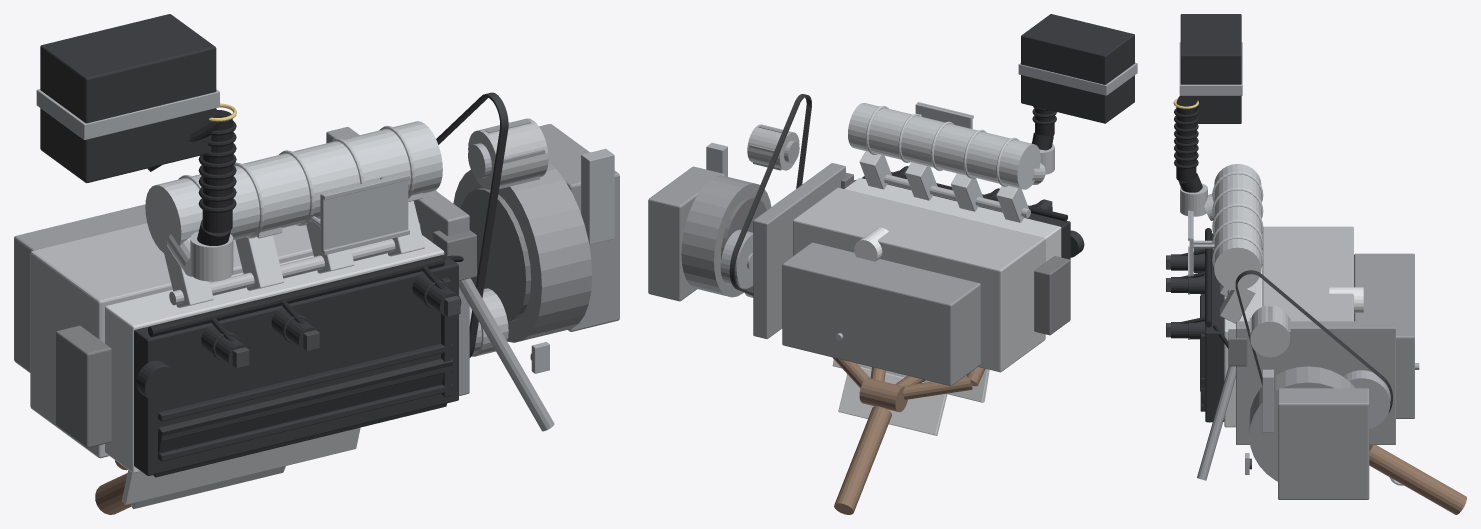
The model's file is engine_assembly.glb.
3 renders of one model, left to right at view 1: azimuth 30°, elevation 25°; view 2: azimuth 150°, elevation 25°; view 3: azimuth 270°, elevation 25°, orthographic. The views are drawn at different scales.
Parts seen in each view (by area): view 1: ENG_valvecover, BLK_ENG_airbox, BLK_ENG_plenum, ENG_block, ENG_bell, ENG_head, ENG_cover_facet, ENG_mount_l, ENG_heatshield_hi, ENG_bellring, ENG_gearbox, ENG_tray (+25 smaller); view 2: ENG_oilpan, ENG_block, BLK_ENG_airbox, BLK_ENG_plenum, ENG_endplate, ENG_bell, ENG_gearbox, ENG_head, ENG_heatshield_lo, ENG_mount_l, ENG_downpipe, ENG_belt (+16 smaller); view 3: ENG_gearbox, ENG_endplate, ENG_block, ENG_oilpan, BLK_ENG_airbox, BLK_ENG_plenum, ENG_bell, ENG_downpipe, ENG_valvecover, ENG_alternator, ENG_crankpulley, ENG_torquerod (+10 smaller).
Boxes of the visible parts, <box> form: ENG_valvecover: <box>134,254,458,475</box>; BLK_ENG_airbox: <box>40,14,216,182</box>; BLK_ENG_plenum: <box>145,121,442,255</box>; ENG_block: <box>30,223,420,458</box>; ENG_bell: <box>453,162,592,342</box>; ENG_head: <box>105,235,444,473</box>; ENG_cover_facet: <box>153,358,453,477</box>; ENG_mount_l: <box>56,325,111,447</box>; ENG_heatshield_hi: <box>122,427,360,504</box>; ENG_bellring: <box>460,188,531,322</box>; ENG_gearbox: <box>539,124,619,331</box>; ENG_tray: <box>320,173,408,252</box>; ENG_oilpan: <box>782,242,980,385</box>; ENG_block: <box>793,187,1045,372</box>; BLK_ENG_airbox: <box>1021,14,1134,123</box>; BLK_ENG_plenum: <box>848,103,1040,189</box>; ENG_endplate: <box>753,163,845,338</box>; ENG_bell: <box>681,175,771,297</box>; ENG_gearbox: <box>648,166,724,301</box>; ENG_head: <box>845,178,1061,261</box>; ENG_heatshield_lo: <box>838,367,947,435</box>; ENG_mount_l: <box>1034,256,1070,335</box>; ENG_downpipe: <box>834,406,891,514</box>; ENG_belt: <box>729,94,811,295</box>; ENG_gearbox: <box>1278,388,1369,499</box>; ENG_endplate: <box>1236,321,1395,444</box>; ENG_block: <box>1262,226,1353,321</box>; ENG_oilpan: <box>1354,253,1414,418</box>; BLK_ENG_airbox: <box>1180,14,1241,123</box>; BLK_ENG_plenum: <box>1214,164,1261,290</box>; ENG_bell: <box>1249,366,1355,481</box>; ENG_downpipe: <box>1369,445,1466,514</box>; ENG_valvecover: <box>1205,233,1224,422</box>; ENG_alternator: <box>1250,305,1289,357</box>; ENG_crankpulley: <box>1343,370,1390,428</box>; ENG_torquerod: <box>1197,366,1235,480</box>.
Bounding box in the file's own units: 1.21 × 1.23 × 0.7888.
